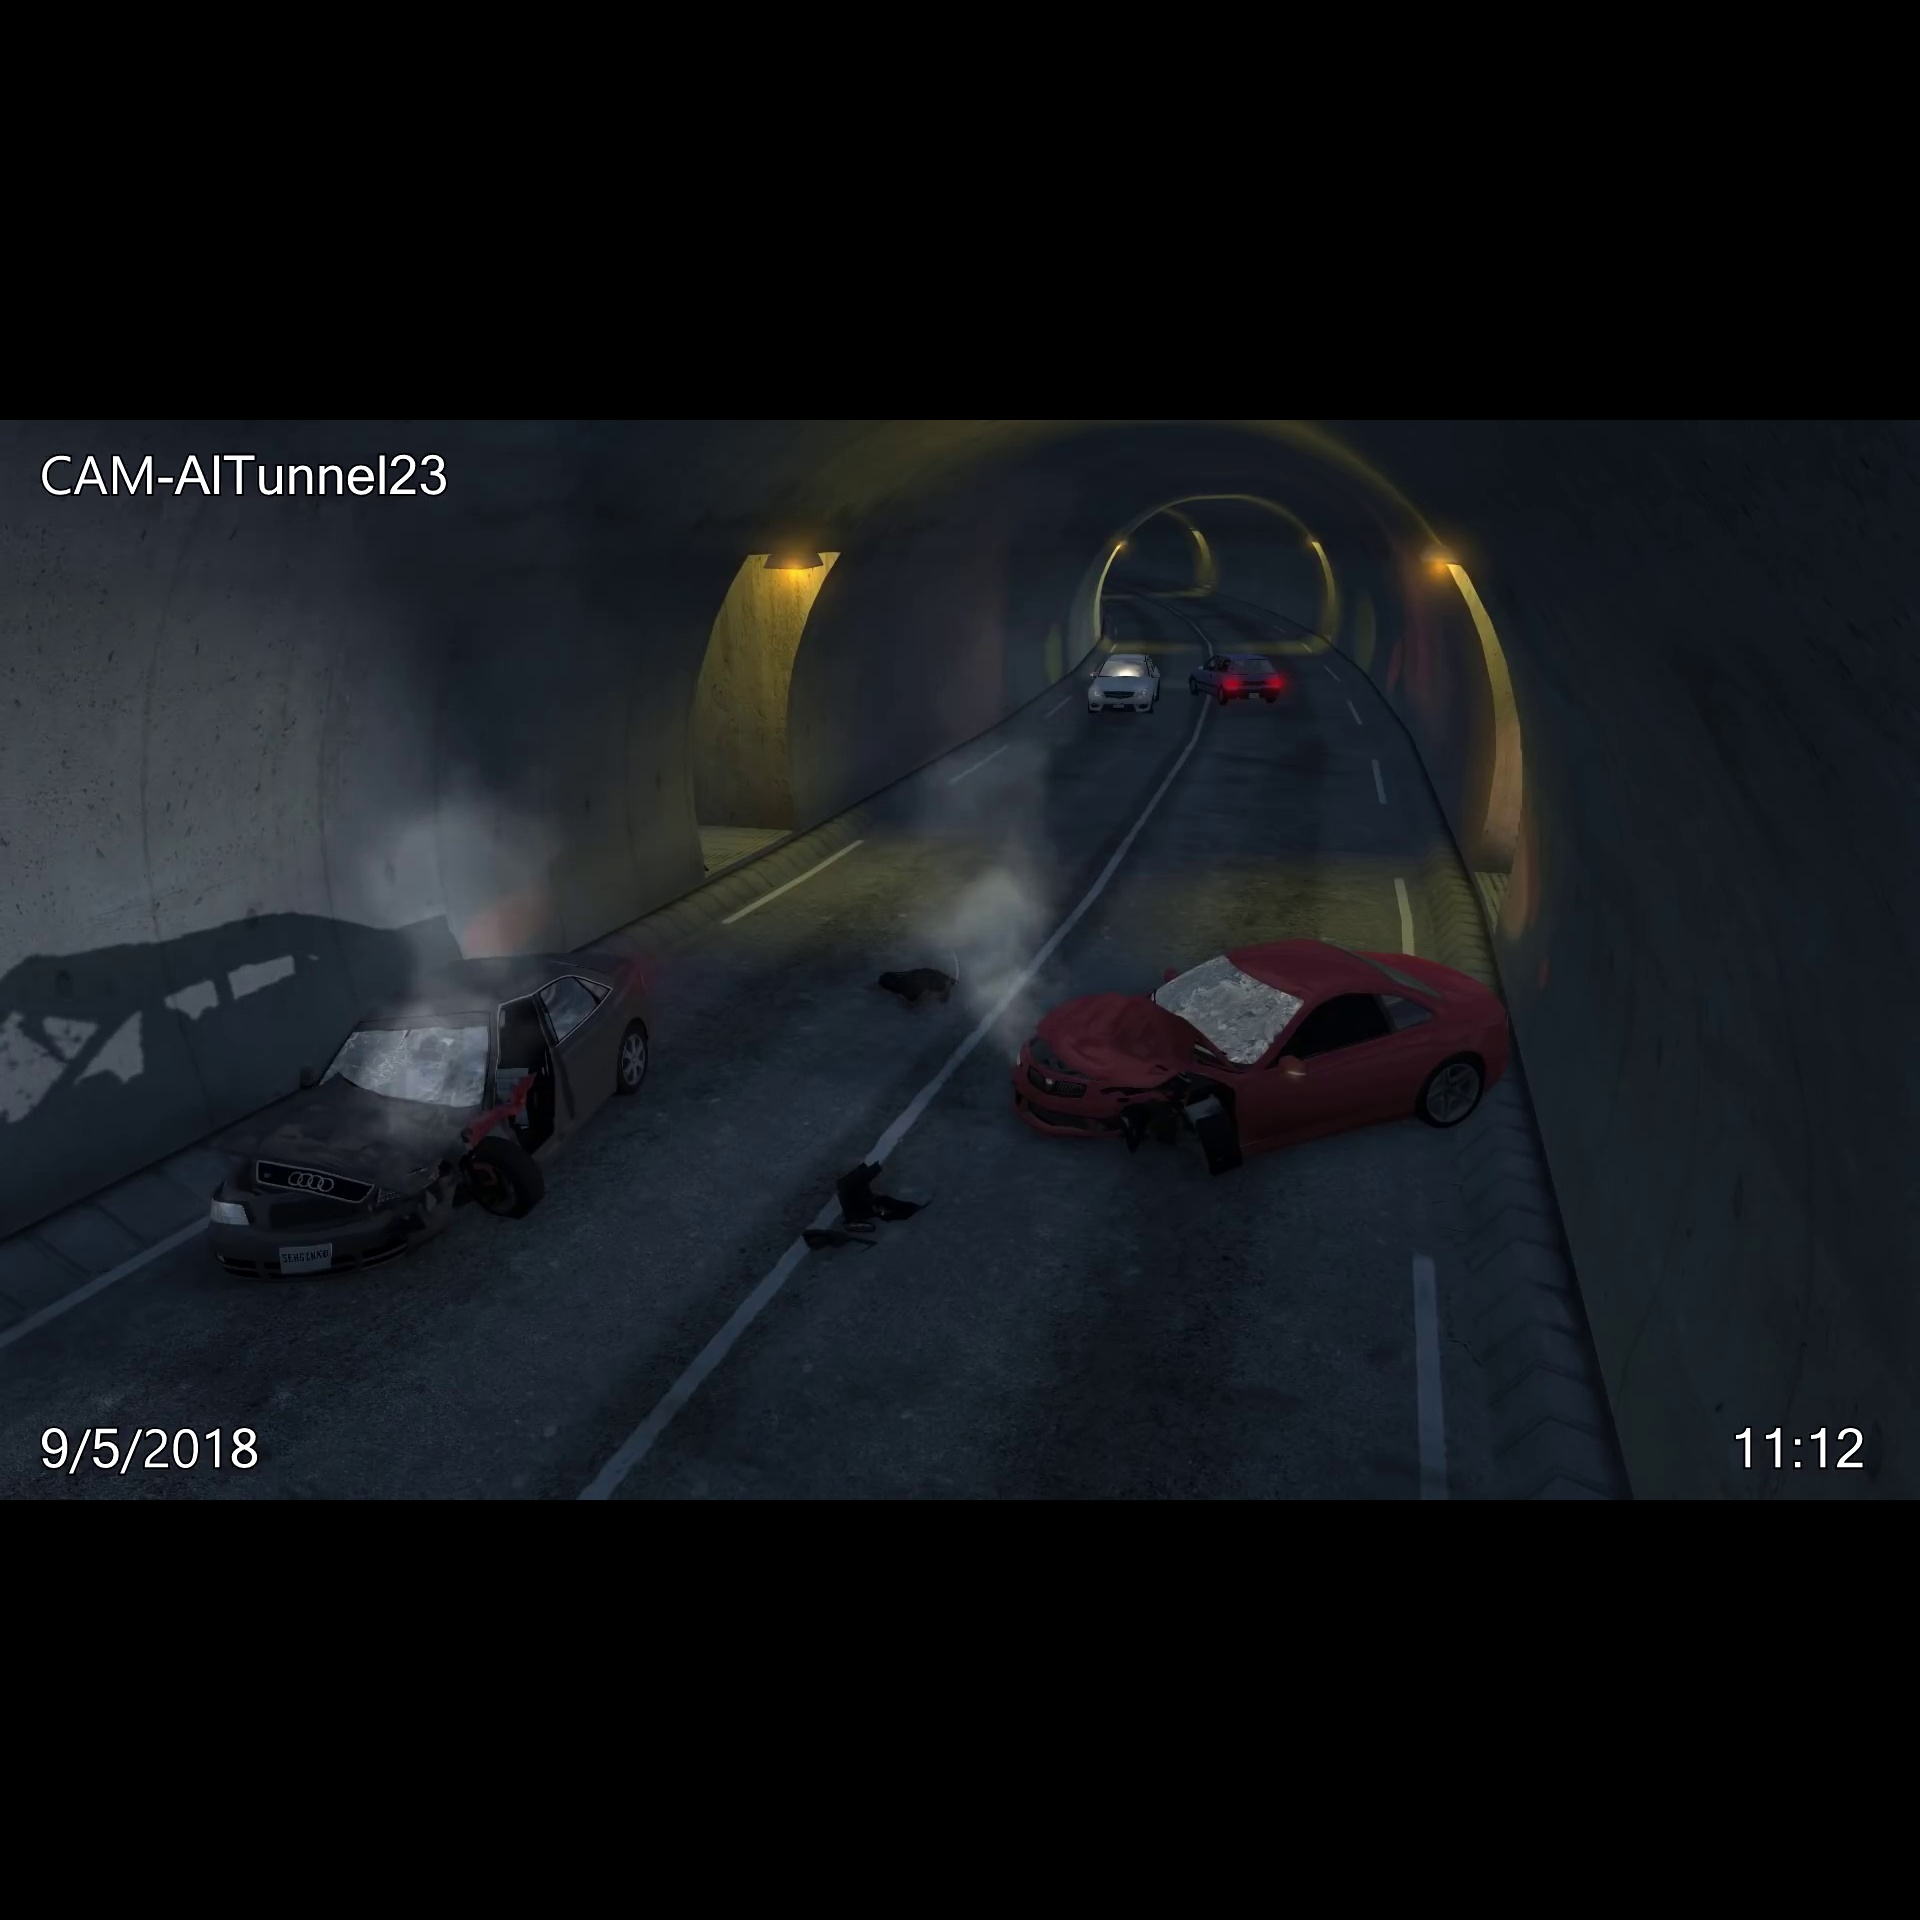vehicle: (207, 930, 666, 1289), (992, 921, 1533, 1175), (1080, 645, 1171, 724), (1185, 649, 1289, 710)
